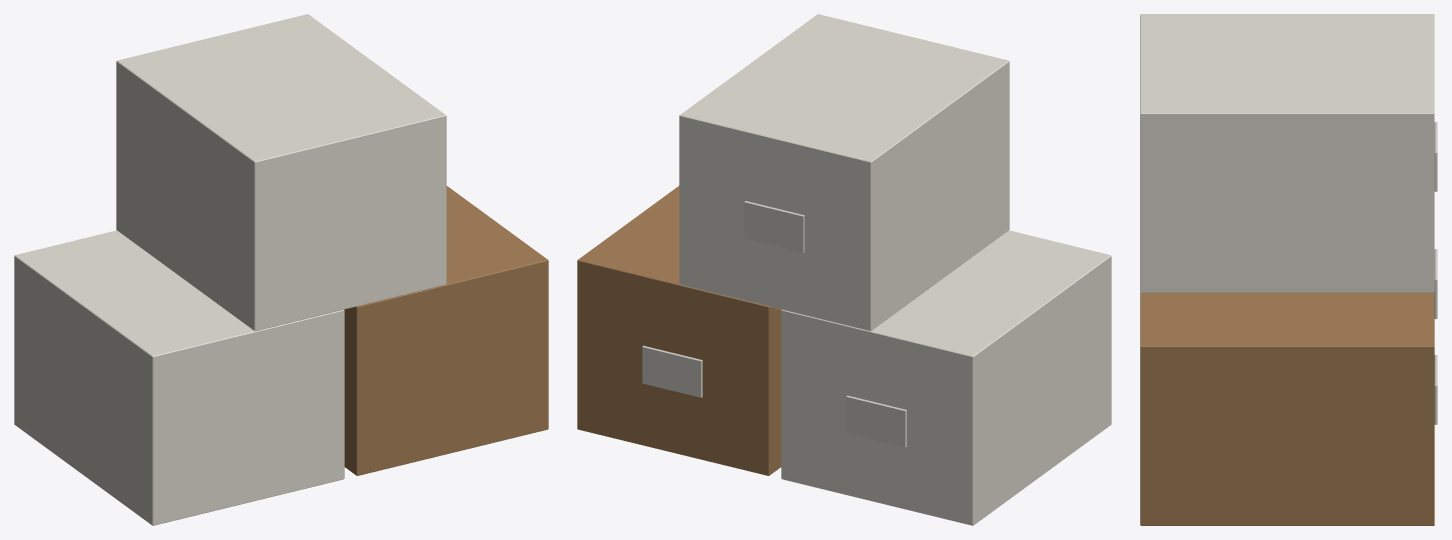
File: prop_archive_boxes.glb
3 renders of one model, left to right at view 1: azimuth 30°, elevation 25°; view 2: azimuth 150°, elevation 25°; view 3: azimuth 270°, elevation 25°, orthographic. The views are drawn at different scales.
Parts seen in each view (by area): view 1: Boxes; view 2: Boxes; view 3: Boxes.
Boxes of the visible parts, bbox=[...] form: Boxes: bbox=[14, 14, 548, 525]; Boxes: bbox=[577, 14, 1111, 525]; Boxes: bbox=[1140, 14, 1437, 525].
Size of what is drawn, in the model's own units: 0.66 by 0.54 by 0.404.
